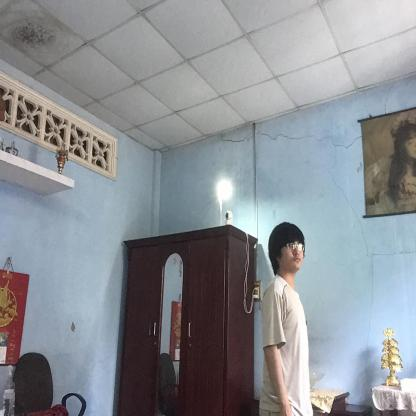person: (261, 223, 316, 416)
